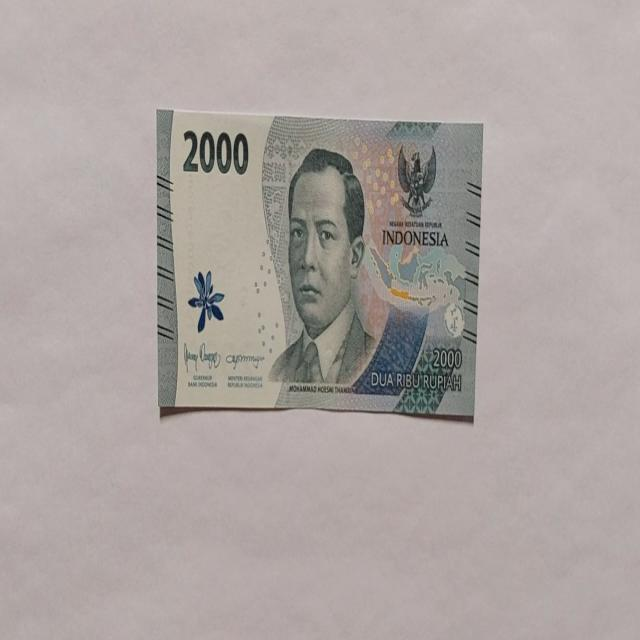dua ribu rupiah: (156, 108, 482, 420), (268, 147, 378, 390)
